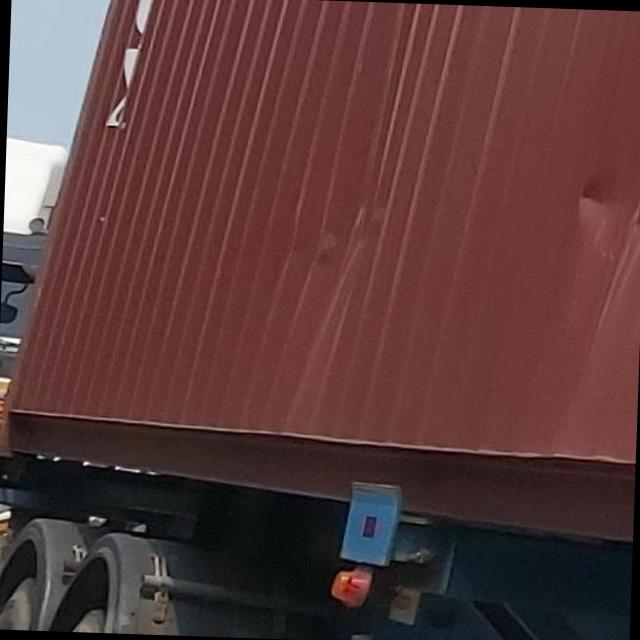Deframe_or_Dent: (266, 74, 408, 348)
